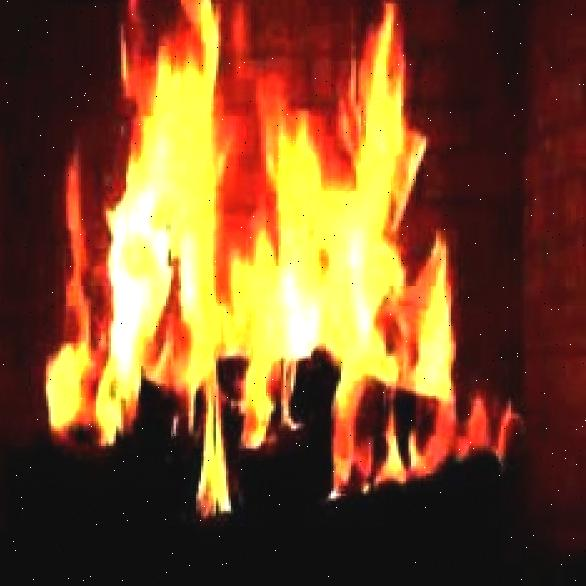fire: (60, 22, 433, 431)
